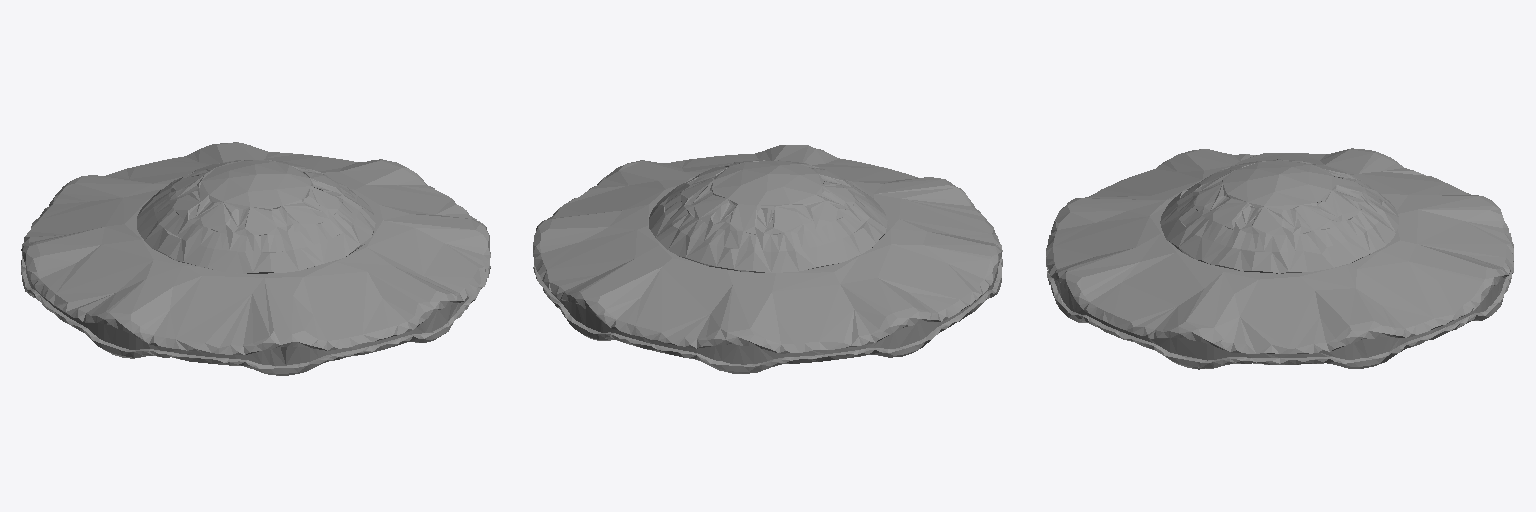
The model's file is frame_058.obj.
The picture shows the model from 3 angles: view 1: azimuth 30°, elevation 25°; view 2: azimuth 150°, elevation 25°; view 3: azimuth 270°, elevation 25°; orthographic projection.
Parts seen in each view (by area): view 1: 13884_UFO_Saucer_v1_l2; view 2: 13884_UFO_Saucer_v1_l2; view 3: 13884_UFO_Saucer_v1_l2.
Part boxes in pixels (x1,y1,x2,y2): 13884_UFO_Saucer_v1_l2: (21, 142, 490, 375); 13884_UFO_Saucer_v1_l2: (533, 145, 1002, 373); 13884_UFO_Saucer_v1_l2: (1046, 148, 1513, 369).
Bounding box in the file's own units: 12.69 × 4.88 × 12.7.